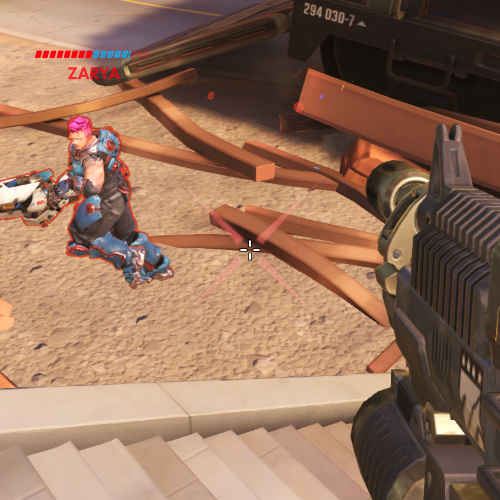hpbar: (34, 49, 151, 59)
